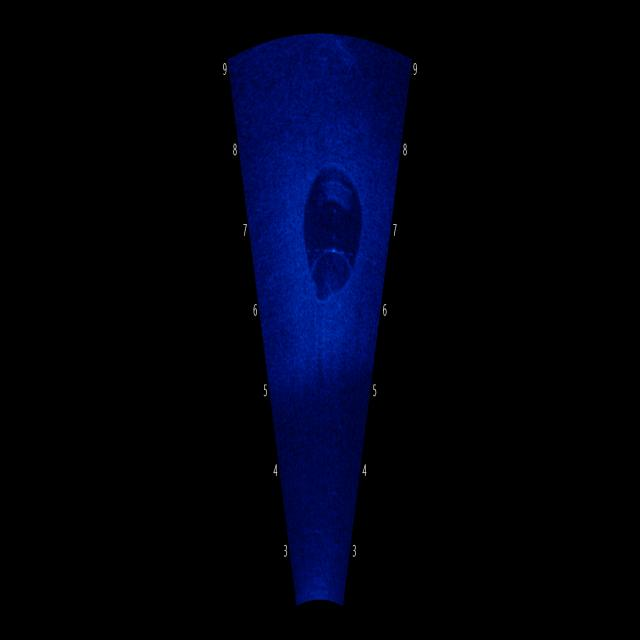circle: (296, 145, 365, 307)
